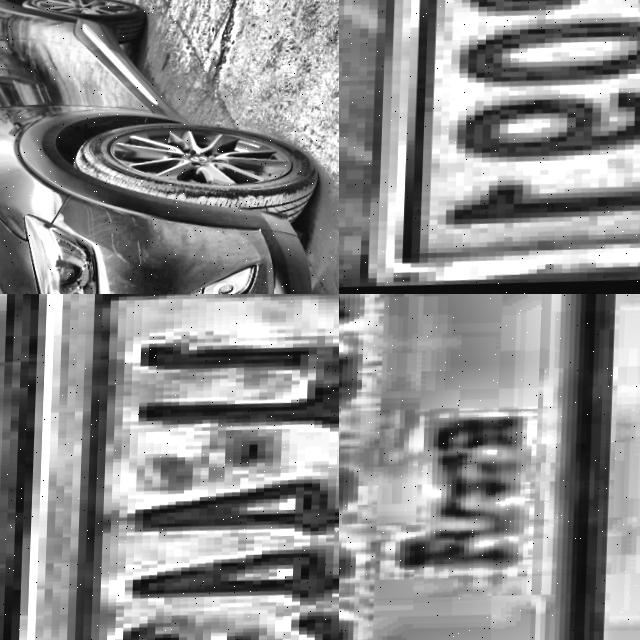license-plate: (0, 294, 339, 640), (339, 294, 610, 640), (339, 0, 640, 294)
